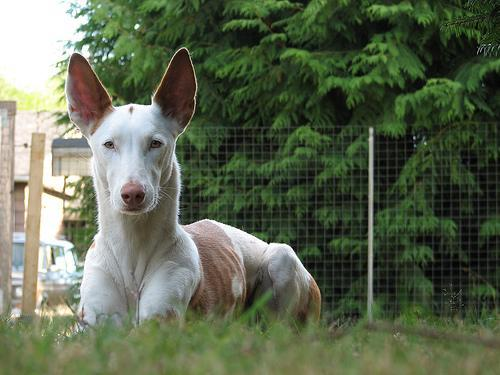Ibizan_hound: (53, 41, 322, 334)
